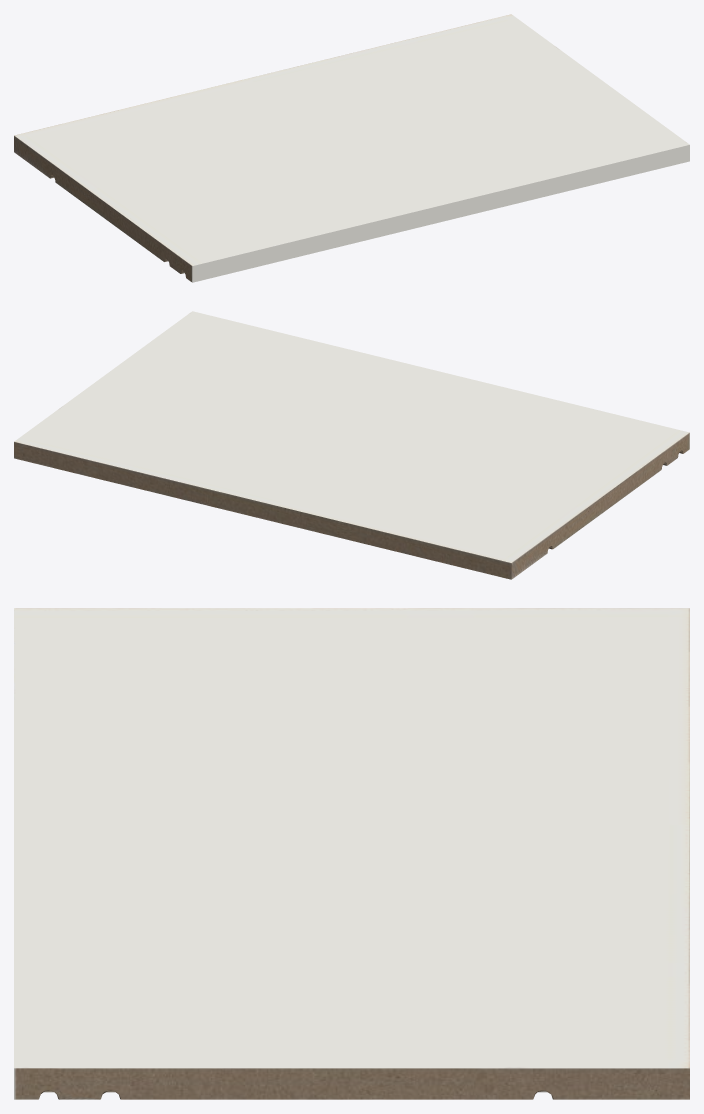
Rendered from utrusta_poka_10205614.glb.
3 views of the same model, one above another, from view 1: azimuth 30°, elevation 25°; view 2: azimuth 150°, elevation 25°; view 3: azimuth 270°, elevation 25° (orthographic). The views are drawn at different scales.
Visible parts, largest first — view 1: utrusta_poka_10205614; view 2: utrusta_poka_10205614; view 3: utrusta_poka_10205614.
Part boxes in pixels (x1=…): utrusta_poka_10205614: x1=14, y1=14, x2=689, y2=282; utrusta_poka_10205614: x1=14, y1=311, x2=689, y2=579; utrusta_poka_10205614: x1=14, y1=608, x2=689, y2=1099.
Size of the model in its own units: 0.5635 by 0.018 by 0.35.
Materials: 1 (1 with a texture image).
